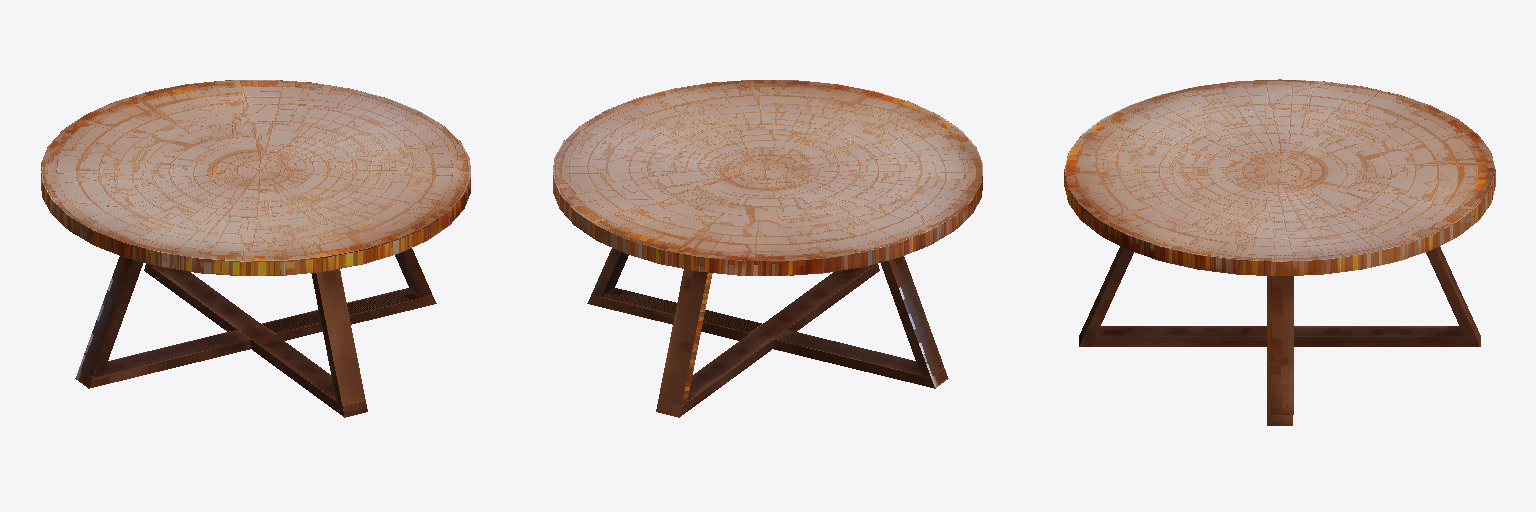
3 renders of one model, left to right at view 1: azimuth 30°, elevation 25°; view 2: azimuth 150°, elevation 25°; view 3: azimuth 270°, elevation 25°, orthographic.
Bounding box in the file's own units: 1.11 × 0.4848 × 1.11.
Materials: 1 (1 with a texture image).